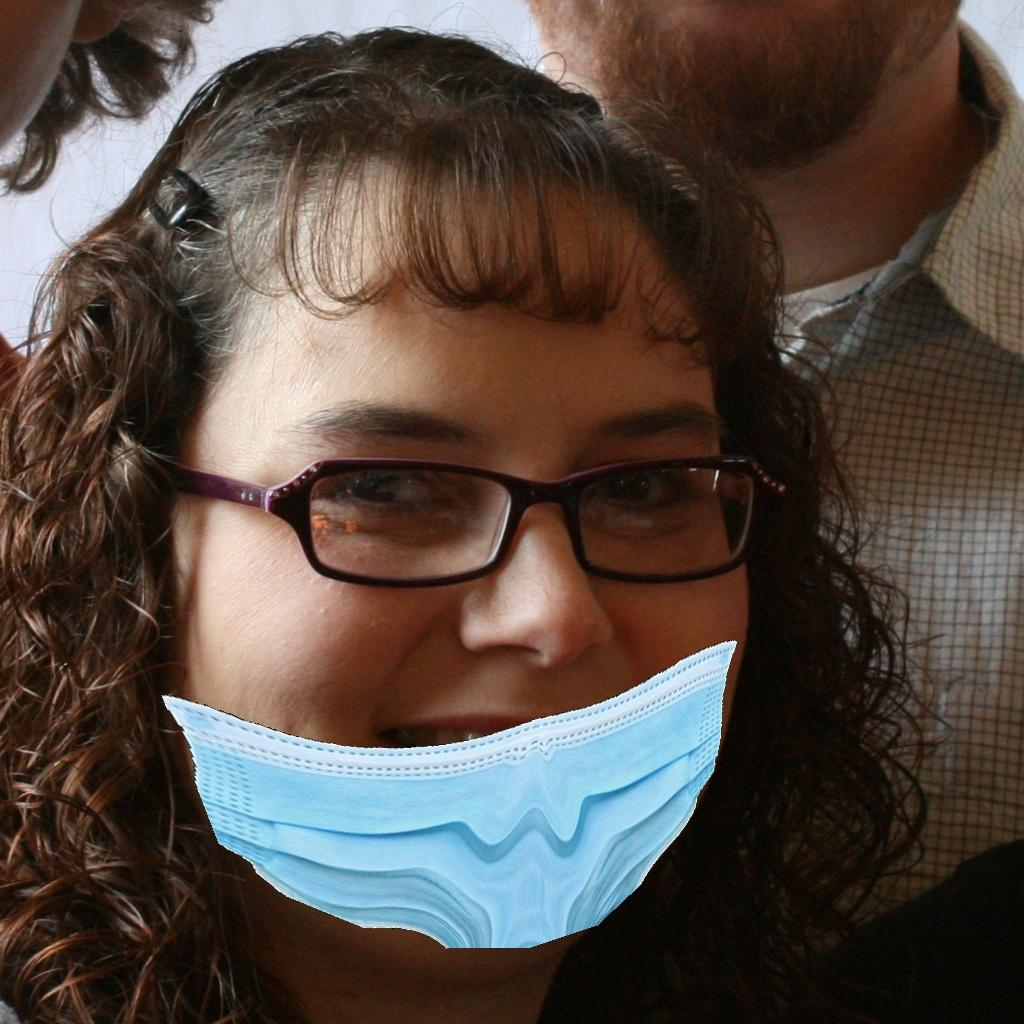Máscara Incorreta: (93, 243, 763, 928)
